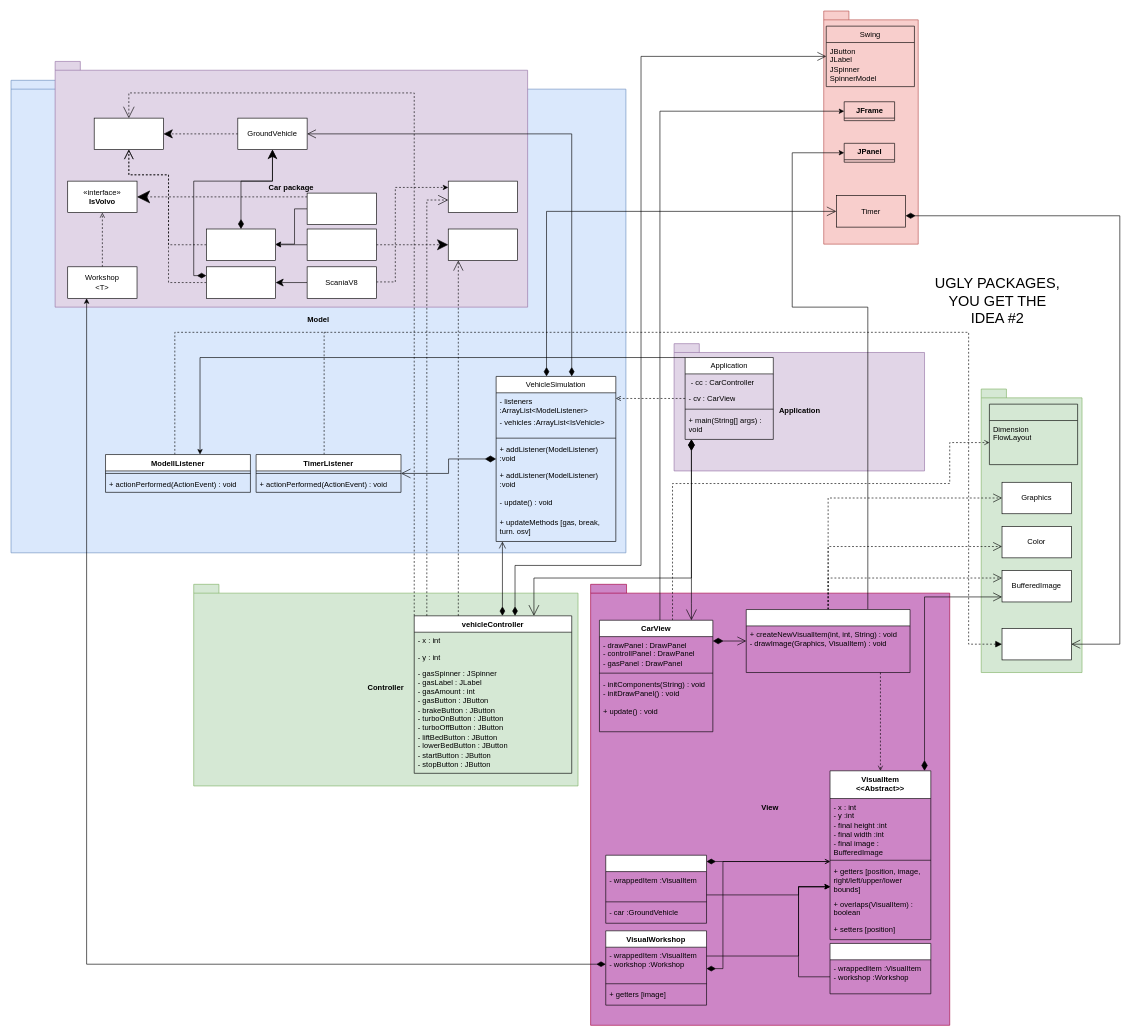
Image size: 1141x1036. Some labels were removed from this diagram. Each missing label, with the box of its shape:
ActionListener: (1001, 628, 1071, 660)
AWT: (989, 404, 1078, 465)
BaseVisualItem: (829, 943, 931, 994)
DrawPanel: (746, 609, 910, 673)
NormalCar: (206, 228, 276, 261)
Saab95: (306, 228, 376, 261)
Truck: (206, 266, 276, 298)
VisualVehicle: (605, 855, 707, 923)
Volvo240: (306, 192, 376, 225)
«interface» HasTurbo: (448, 228, 518, 261)
«interface» IsVehicle: (94, 117, 163, 150)
«interface» TIppable: (448, 180, 518, 213)
